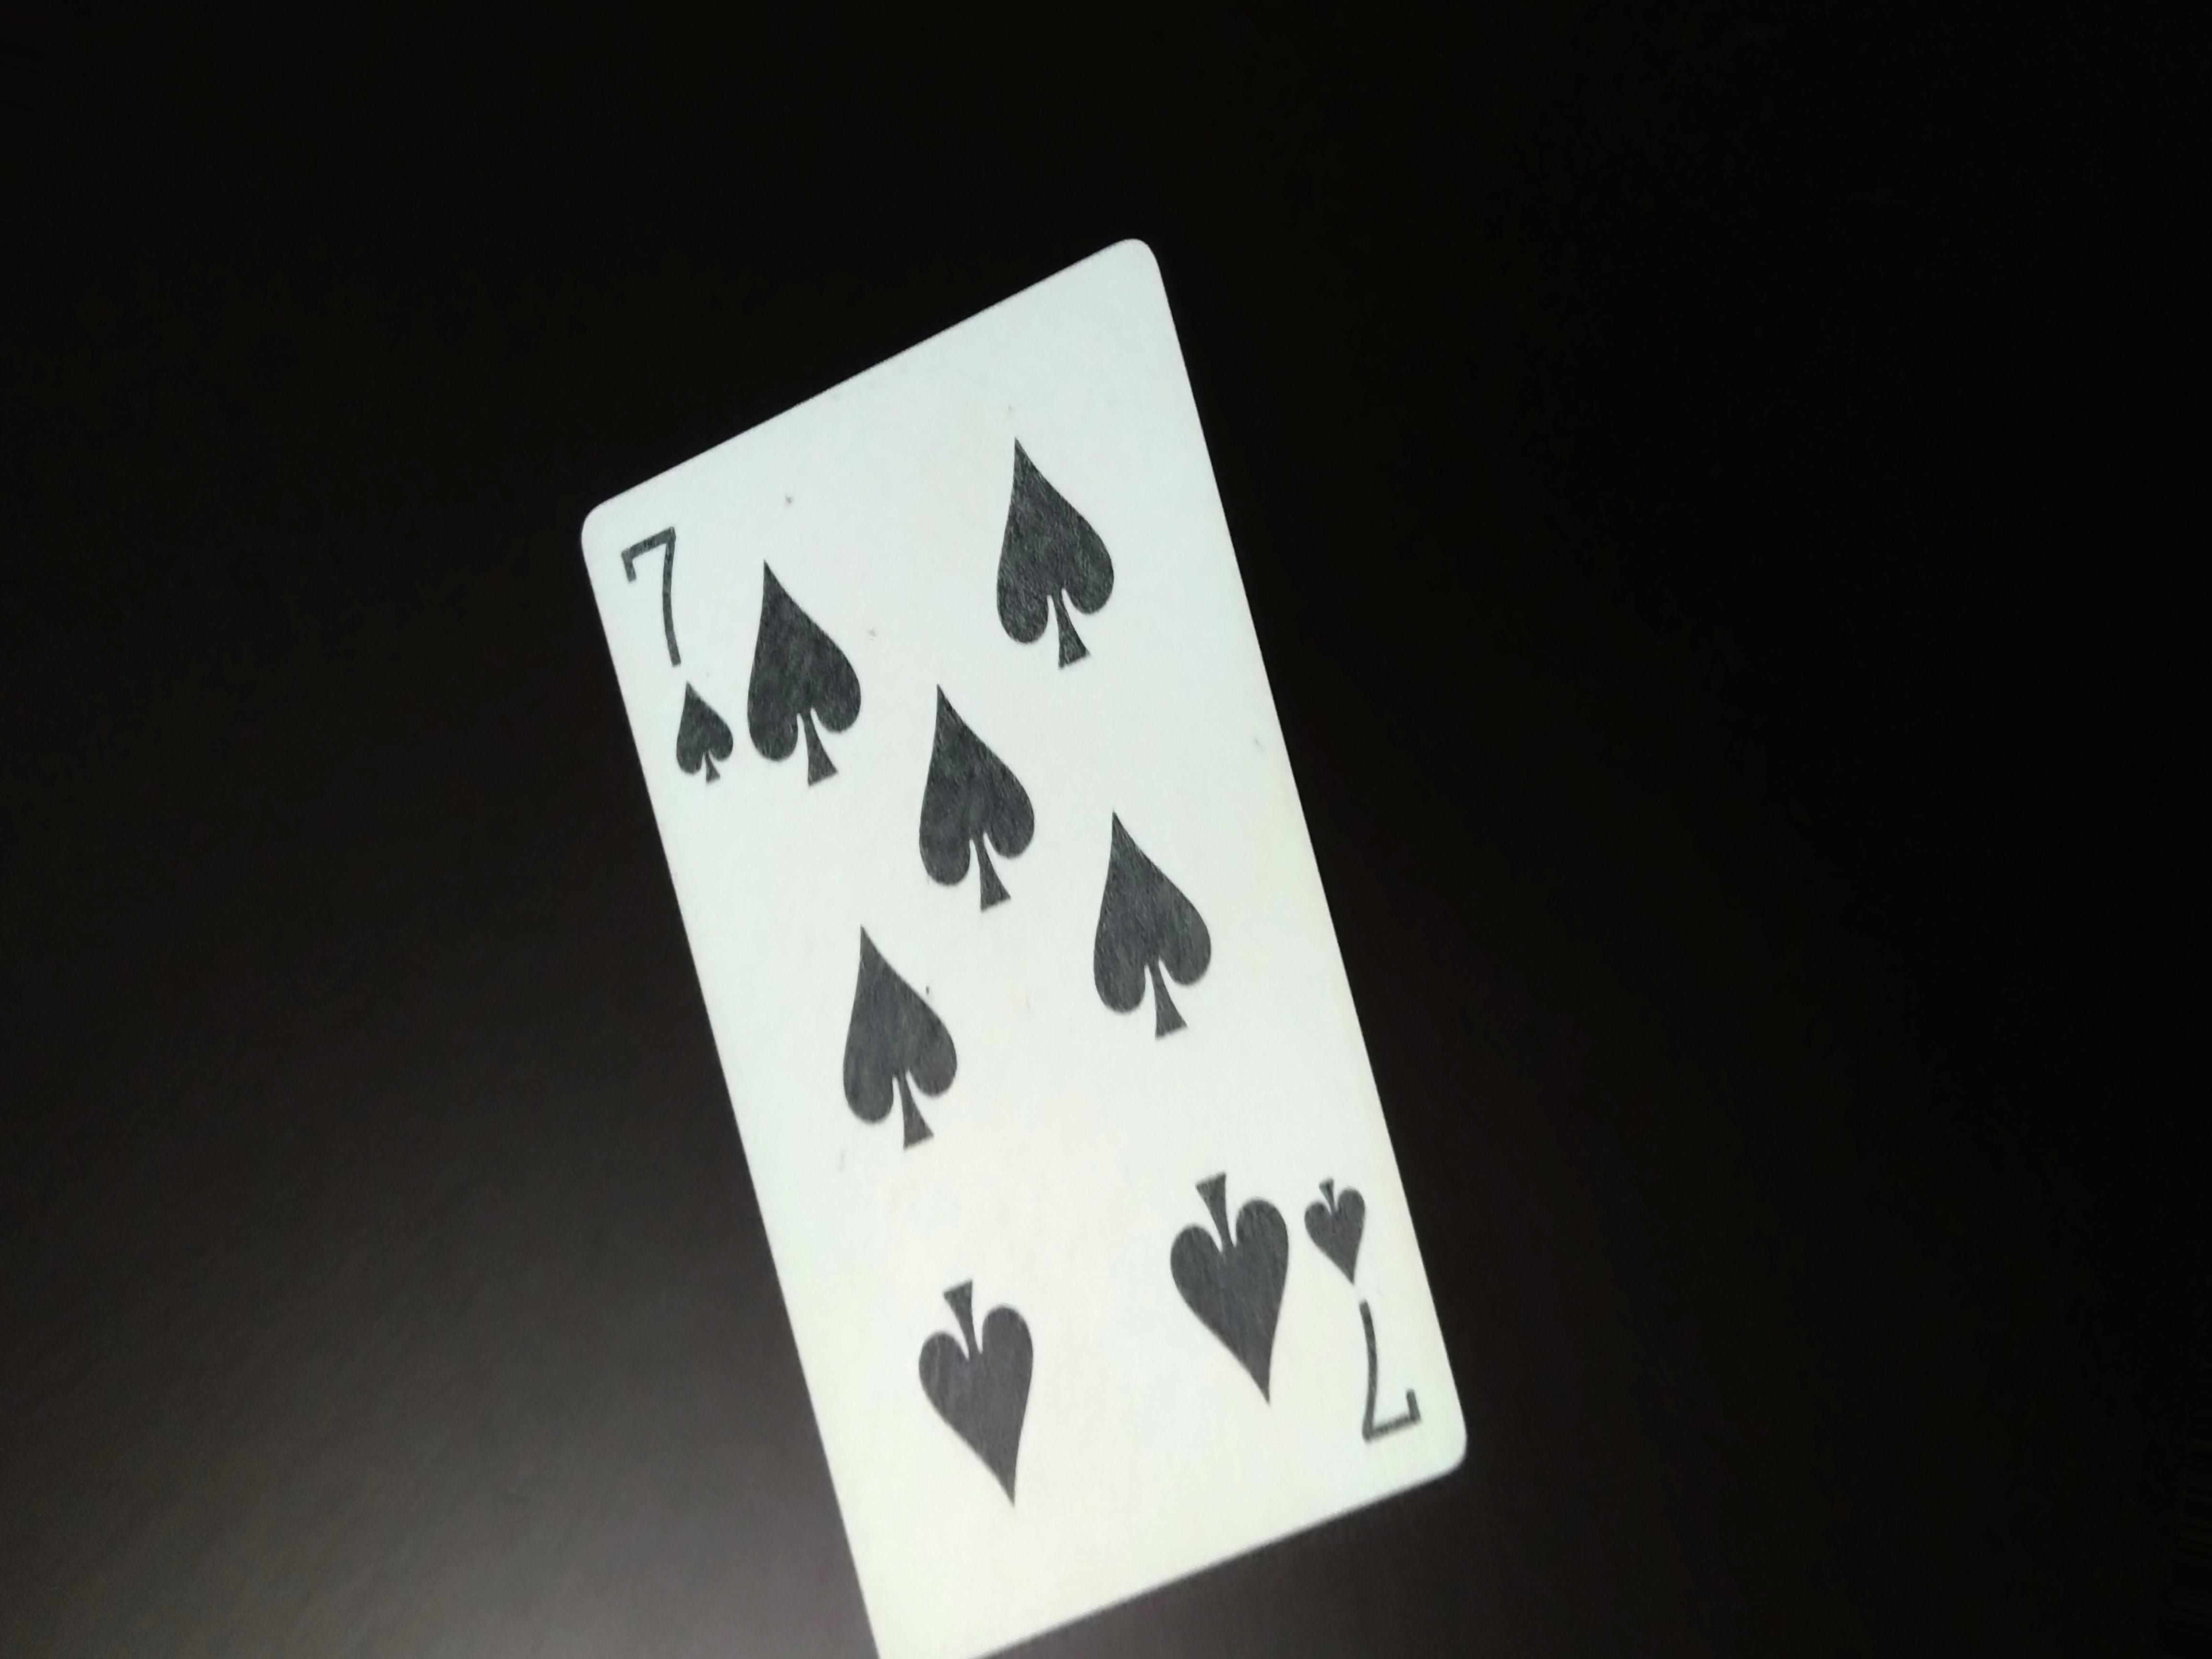7S: (617, 518, 738, 812)
